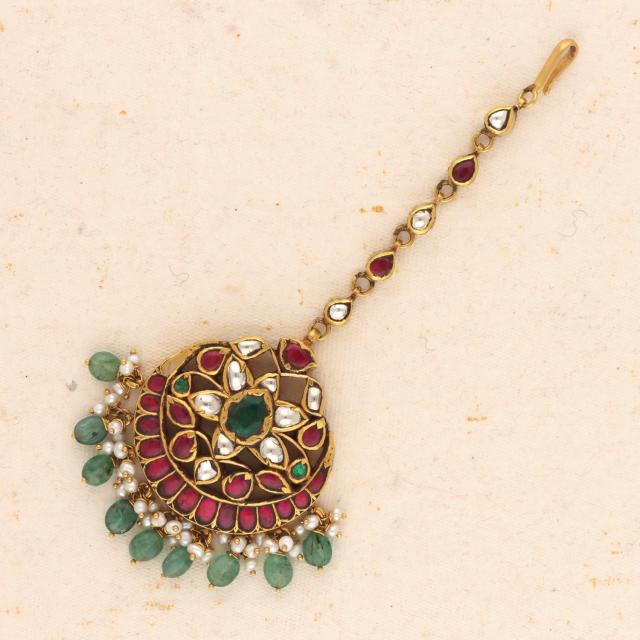missing gem: (162, 352, 188, 375)
